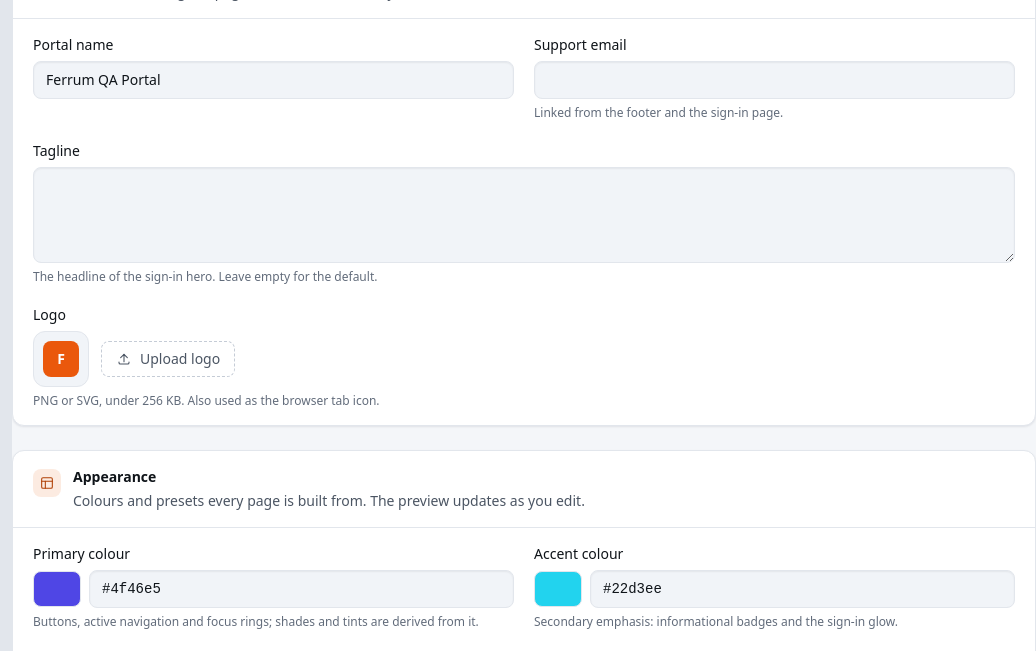
Test: branding colour validation › blocks seven-digit hex before any request
Replace the text in the field named "Accent colour hex value" with "#1234567" at (802, 589), box [590,570,1015,608]
(page scrolled)
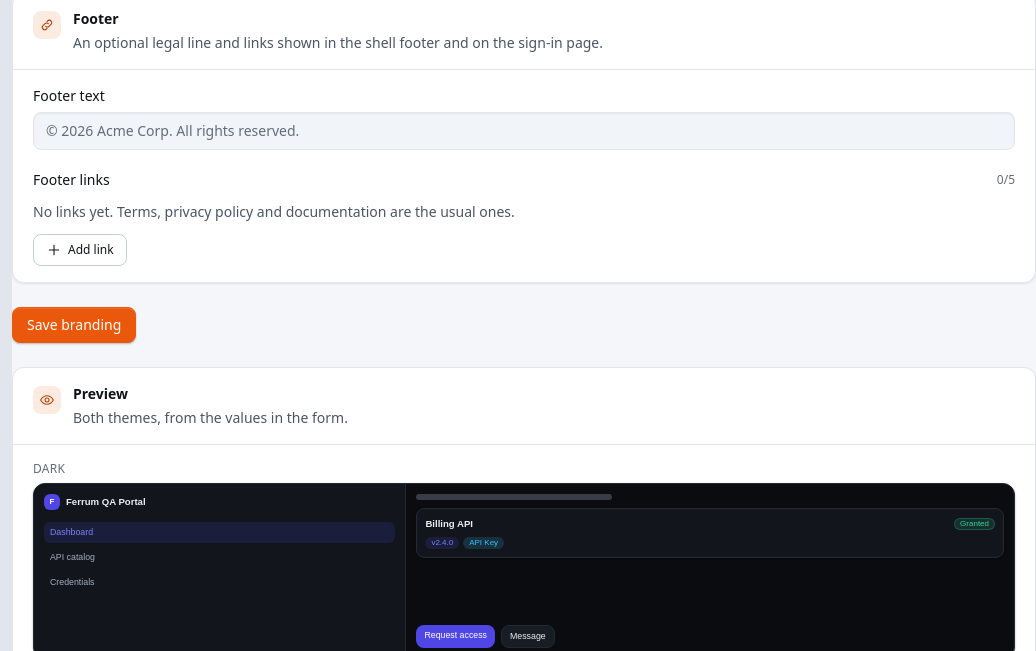
Click the button "Save branding" at (74, 325), box [12,307,136,343]
(page scrolled)
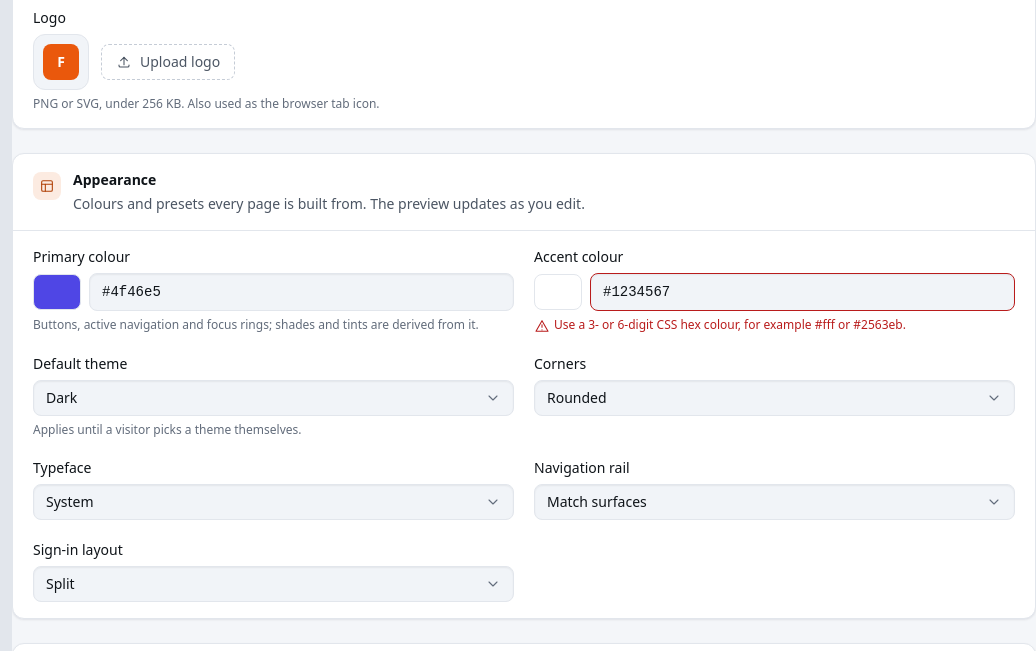
Check: the message shows "3- or 6-digit CSS hex", box [554,316,906,333]
